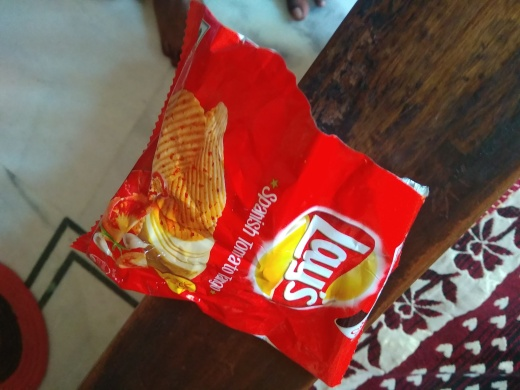lays: (71, 2, 436, 387)
